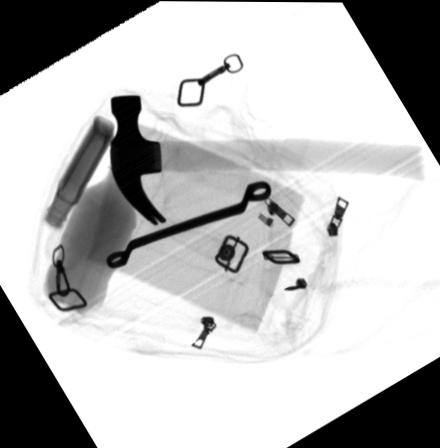Hammer: (109, 94, 423, 227)
Wrench: (104, 181, 271, 268)
